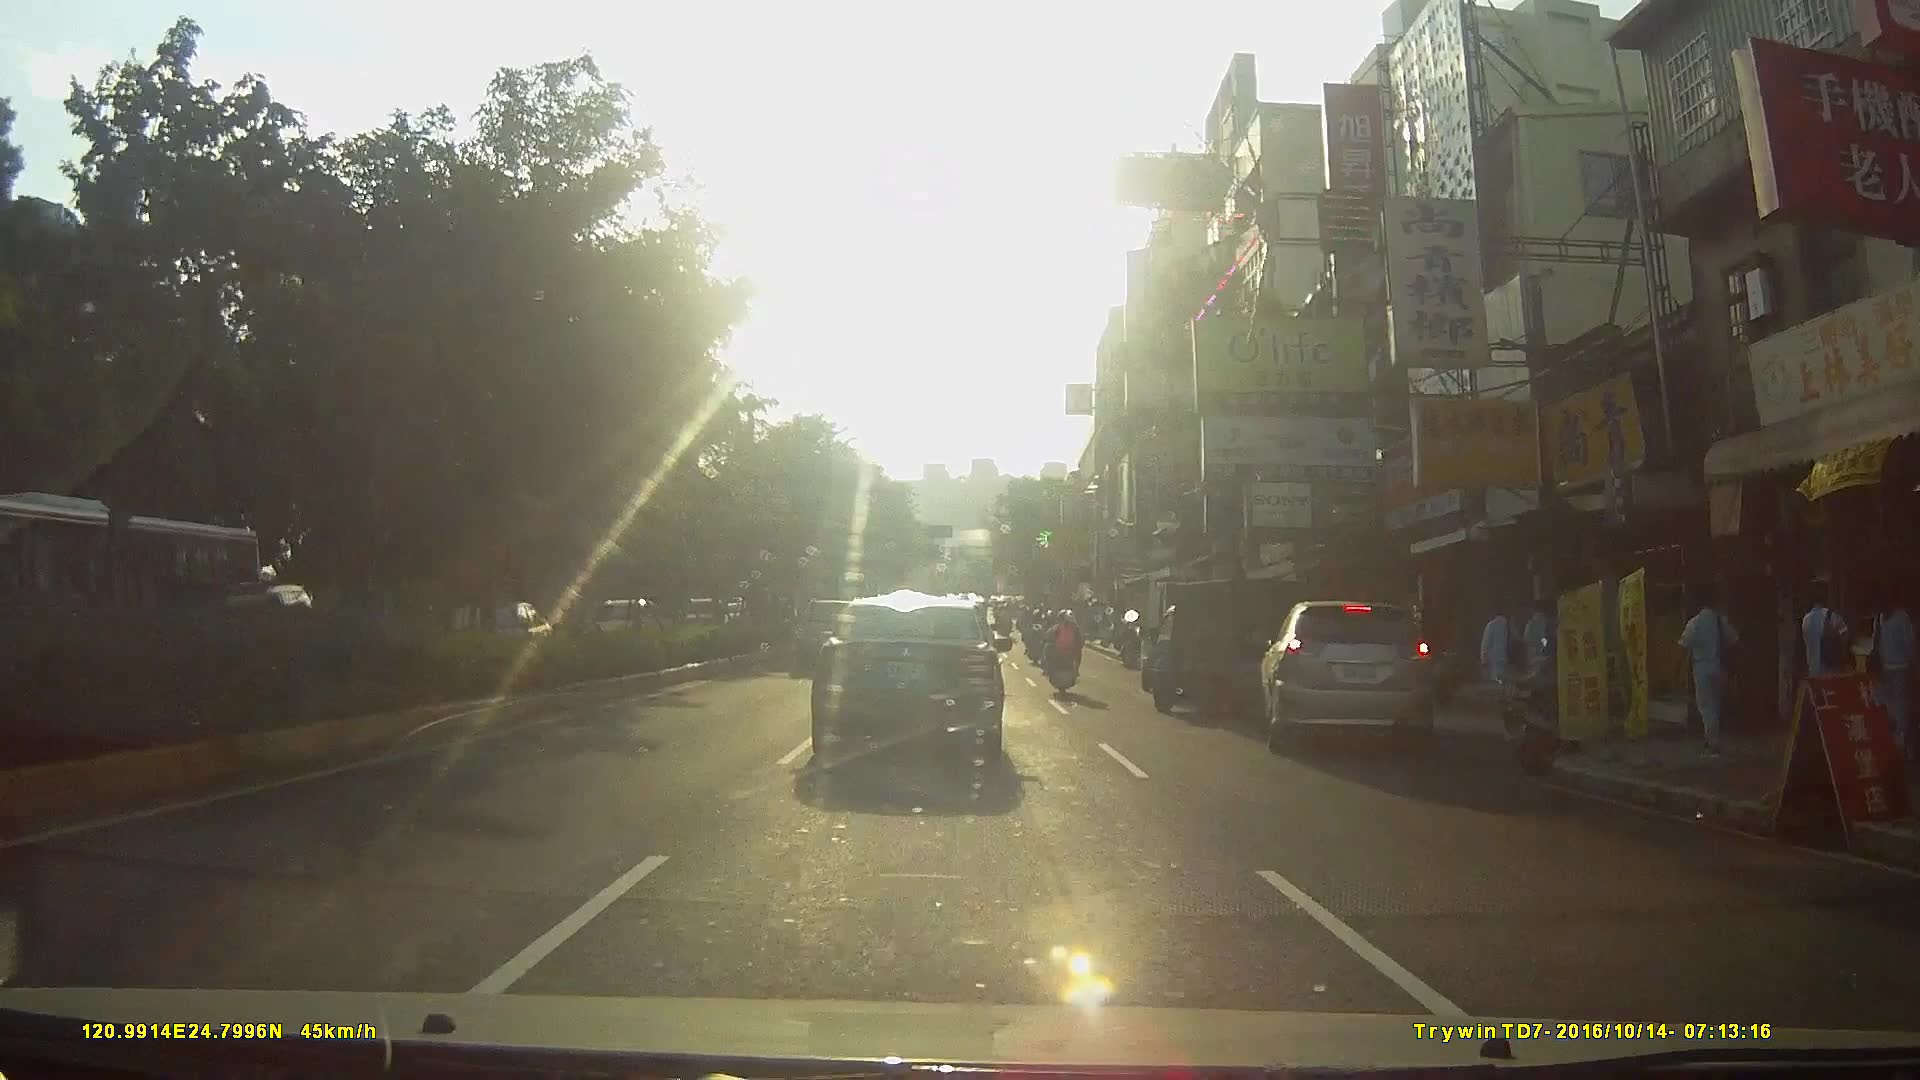pedestrian: (1803, 579, 1861, 776), (1680, 588, 1743, 763), (1865, 583, 1920, 766), (1477, 593, 1531, 721)
rider: (1041, 603, 1083, 696), (1024, 610, 1049, 664)
vehicle: (1, 496, 268, 669), (807, 593, 1024, 777), (1253, 591, 1461, 769), (1128, 571, 1273, 731)
